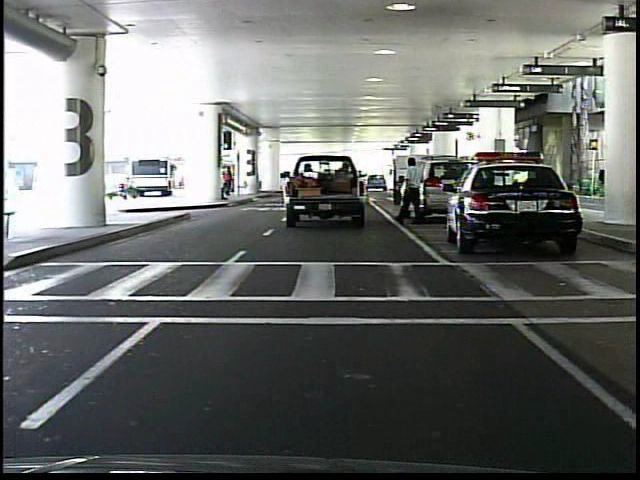person: (394, 156, 431, 229), (223, 160, 237, 201)
